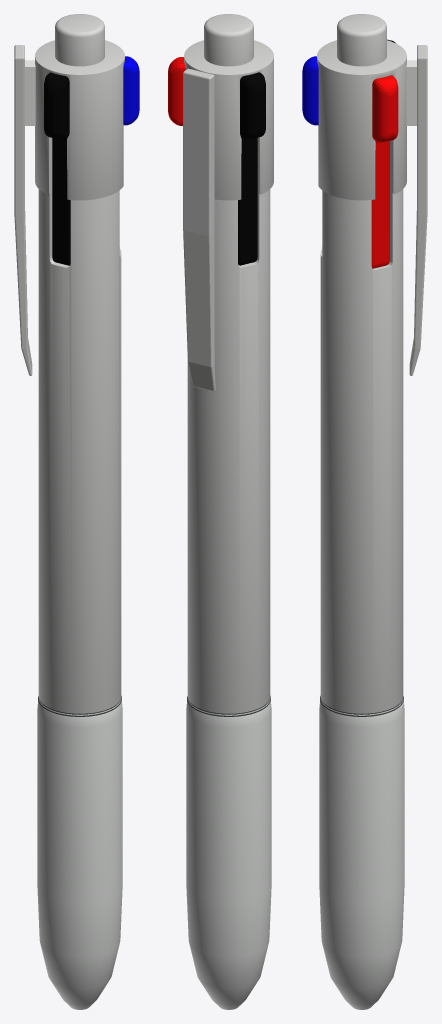
File: three-color-pen.glb
3 renders of one model, left to right at view 1: azimuth 90°, elevation 25°; view 2: azimuth 150°, elevation 25°; view 3: azimuth 270°, elevation 25°, orthographic.
Visible parts, largest first — view 1: Main_Barrel, Lower_Body, Selector_Housing, 立方体.002, Clip_Base, Rear_Plunger, 立方体, Clip_Base.001; view 2: Main_Barrel, Lower_Body, Clip_Base, Selector_Housing, 立方体.002, Rear_Plunger, 立方体.001; view 3: Main_Barrel, Lower_Body, Selector_Housing, 立方体.001, Clip_Base, Rear_Plunger, 立方体, Clip_Base.001.
Boxes of the visible parts, <box> form: Main_Barrel: <box>38,137,121,714</box>; Lower_Body: <box>37,697,122,1009</box>; Selector_Housing: <box>35,40,124,200</box>; 立方体.002: <box>44,72,70,265</box>; Clip_Base: <box>14,45,32,375</box>; Rear_Plunger: <box>55,14,104,66</box>; 立方体: <box>123,56,139,125</box>; Clip_Base.001: <box>25,60,35,125</box>; Main_Barrel: <box>187,137,270,714</box>; Lower_Body: <box>186,697,271,1009</box>; Clip_Base: <box>183,68,215,391</box>; Selector_Housing: <box>184,40,273,200</box>; 立方体.002: <box>238,72,265,265</box>; Rear_Plunger: <box>204,14,253,66</box>; 立方体.001: <box>168,57,185,125</box>; Main_Barrel: <box>320,140,403,714</box>; Lower_Body: <box>319,697,404,1009</box>; Selector_Housing: <box>317,40,406,200</box>; 立方体.001: <box>371,75,398,268</box>; Clip_Base: <box>409,45,427,375</box>; Rear_Plunger: <box>337,14,386,66</box>; 立方体: <box>302,56,318,125</box>; Clip_Base.001: <box>406,60,416,125</box>.
Size of the model in its own units: 0.0143 by 0.141 by 0.0163.
